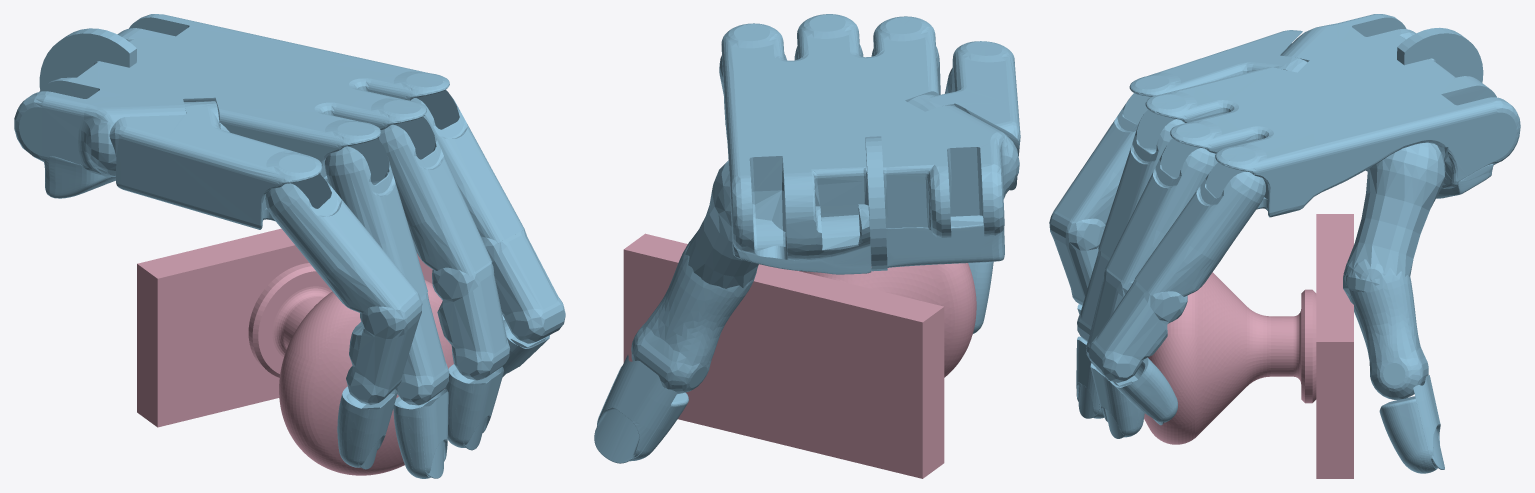
3 renders of one model, left to right at view 1: azimuth 30°, elevation 25°; view 2: azimuth 150°, elevation 25°; view 3: azimuth 270°, elevation 25°, orthographic. The views are drawn at different scales.
Visible parts, largest first — view 1: world; view 2: world; view 3: world.
Part boxes in pixels (x1,y1,x2,y2): world: (14,14,565,478); world: (594,14,1020,478); world: (1049,14,1520,478).
Bounding box in the file's own units: 0.1394 × 0.1247 × 0.1558.
